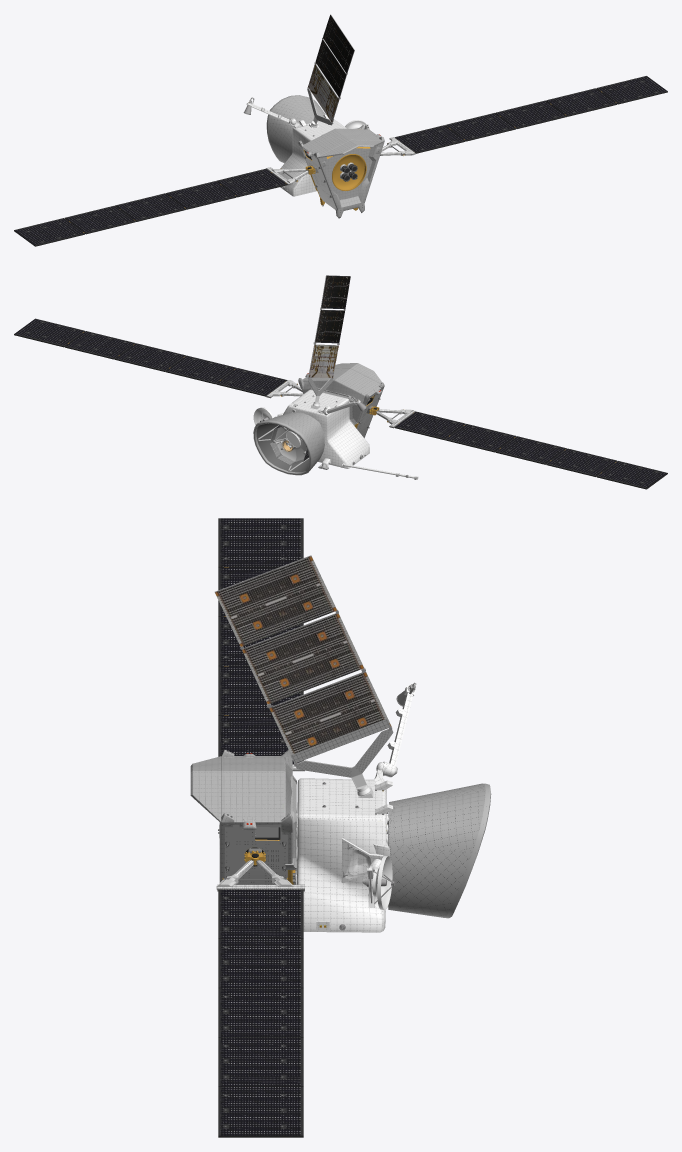
Rendered from bepicolombo.glb.
3 views of the same model, one above another, from view 1: azimuth 30°, elevation 25°; view 2: azimuth 150°, elevation 25°; view 3: azimuth 270°, elevation 25° (orthographic). The views are drawn at different scales.
Parts seen in each view (by area): view 1: SM_MTM, bepi_mpo_2020, SunShield; view 2: SM_MTM, bepi_mpo_2020, SunShield, SM_MMO; view 3: SM_MTM, bepi_mpo_2020, SunShield.
Boxes of the visible parts, box(x1,y1,x2,y2) form: SM_MTM: box(14, 76, 667, 246); bepi_mpo_2020: box(243, 14, 366, 196); SunShield: box(266, 95, 324, 163); SM_MTM: box(14, 318, 667, 489); bepi_mpo_2020: box(253, 275, 418, 479); SunShield: box(253, 412, 324, 475); SM_MMO: box(269, 425, 308, 465); SM_MTM: box(190, 518, 304, 1137); bepi_mpo_2020: box(214, 555, 416, 932); SunShield: box(388, 783, 491, 918).
Bounding box in the file's own units: 2998 × 838 × 616.
Materials: 4 (4 with a texture image).
